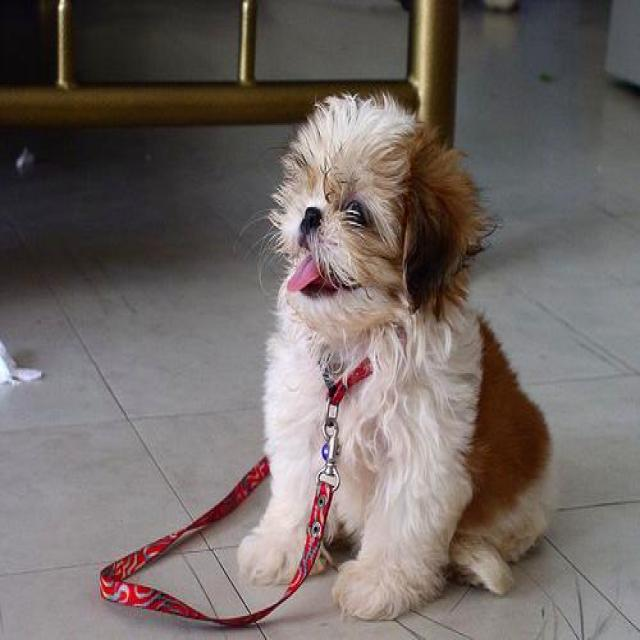shih_tzu: (235, 90, 557, 620)
